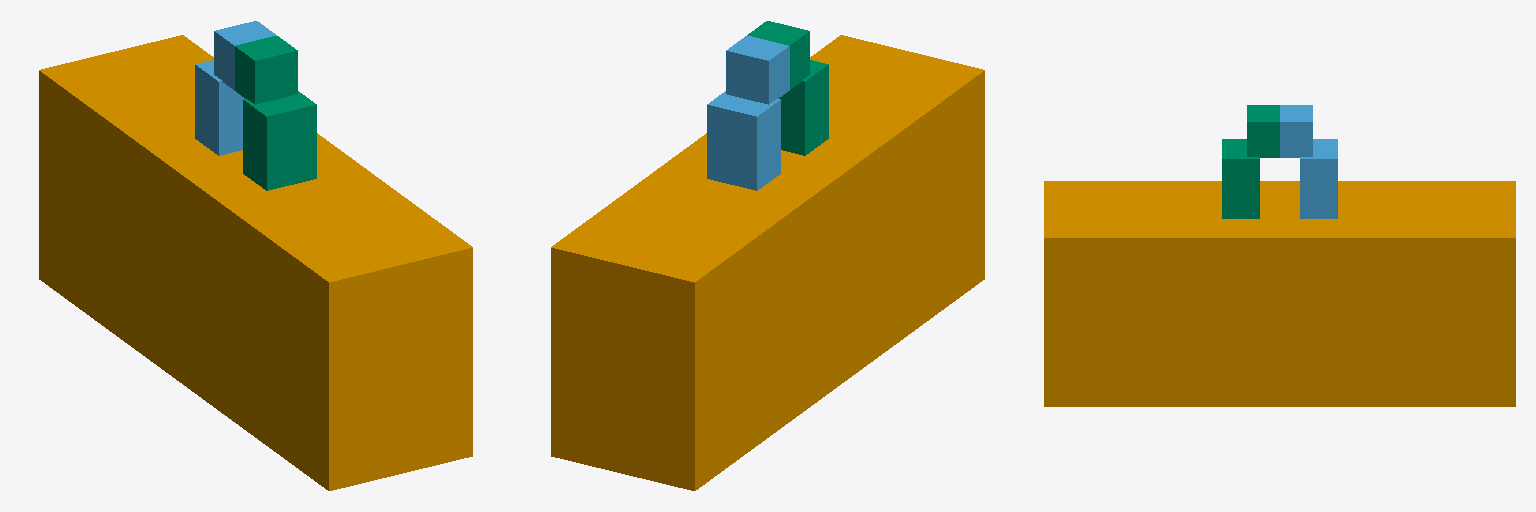
URDF robot description (franka):
<?xml version="1.0"?>
<robot name="franka">
  <joint name="finger_joint1" type="prismatic">
    <origin xyz="0. 0. 0.0584" rpy="0. 0. 1.5707964"/>
    <parent link="hand"/>
    <child link="left_finger"/>
    <axis xyz="1. 0. 0."/>
    <limit lower="0." upper="0.04" effort="0." velocity="1000000."/>
  </joint>
  <joint name="finger_joint2" type="prismatic">
    <origin xyz="0. 0. 0.0584" rpy="0. 0. -1.5707964"/>
    <parent link="hand"/>
    <child link="right_finger"/>
    <axis xyz="1. 0. 0."/>
    <limit lower="0." upper="0.04" effort="0." velocity="1000000."/>
  </joint>
  <link name="hand">
    <visual>
      <origin xyz="0. 0. 0.02615" rpy="0. 0. 0."/>
      <geometry>
        <box size="0.05784 0.20168 0.08004"/>
      </geometry>
    </visual>
    <collision>
      <origin xyz="0. 0. 0.02615" rpy="0. 0. 0."/>
      <geometry>
        <box size="0.05784 0.20168 0.08004"/>
      </geometry>
    </collision>
  </link>
  <link name="left_finger">
    <visual>
      <origin xyz="0.01664 0. 0.02144" rpy="0. 0. -1.5707964"/>
      <geometry>
        <box size="0.02012 0.01646 0.02954"/>
      </geometry>
    </visual>
    <visual>
      <origin xyz="0.00706 0. 0.04438" rpy="0. 0. -1.5707964"/>
      <geometry>
        <box size="0.01712 0.01444 0.01718"/>
      </geometry>
    </visual>
    <collision>
      <origin xyz="0.01664 0. 0.02144" rpy="0. 0. -1.5707964"/>
      <geometry>
        <box size="0.02012 0.01646 0.02954"/>
      </geometry>
    </collision>
    <collision>
      <origin xyz="0.00706 0. 0.04438" rpy="0. 0. -1.5707964"/>
      <geometry>
        <box size="0.01712 0.01444 0.01718"/>
      </geometry>
    </collision>
  </link>
  <link name="right_finger">
    <visual>
      <origin xyz="0.01664 0. 0.02144" rpy="0. 0. -1.5707964"/>
      <geometry>
        <box size="0.02012 0.01646 0.02954"/>
      </geometry>
    </visual>
    <visual>
      <origin xyz="0.00706 0. 0.04438" rpy="0. 0. -1.5707964"/>
      <geometry>
        <box size="0.01712 0.01444 0.01718"/>
      </geometry>
    </visual>
    <collision>
      <origin xyz="0.01664 0. 0.02144" rpy="0. 0. -1.5707964"/>
      <geometry>
        <box size="0.02012 0.01646 0.02954"/>
      </geometry>
    </collision>
    <collision>
      <origin xyz="0.00706 0. 0.04438" rpy="0. 0. -1.5707964"/>
      <geometry>
        <box size="0.01712 0.01444 0.01718"/>
      </geometry>
    </collision>
  </link>
</robot>

--- Render facts (derived) ---
The picture shows the robot from 3 angles, left to right: view 1: azimuth 30°, elevation 25°; view 2: azimuth 150°, elevation 25°; view 3: azimuth 270°, elevation 25°; orthographic projection.
Model franka with 3 links and 2 joints (2 prismatic), rooted at hand, posed all joints at 0.
Visible links, largest first — view 1: hand, right_finger, left_finger; view 2: hand, left_finger, right_finger; view 3: hand, left_finger, right_finger.
Link boxes in pixels (x1,y1,x2,y2): hand: (39, 35, 472, 490); right_finger: (235, 36, 316, 190); left_finger: (195, 21, 276, 155); hand: (551, 35, 984, 490); left_finger: (707, 36, 789, 190); right_finger: (747, 21, 828, 155); hand: (1044, 181, 1515, 406); left_finger: (1280, 105, 1337, 218); right_finger: (1222, 105, 1279, 218).
Size in the robot's own frame: 0.0578 by 0.2017 by 0.1252 metres.
Geometry: primitives only (box / cylinder / sphere), no mesh files.